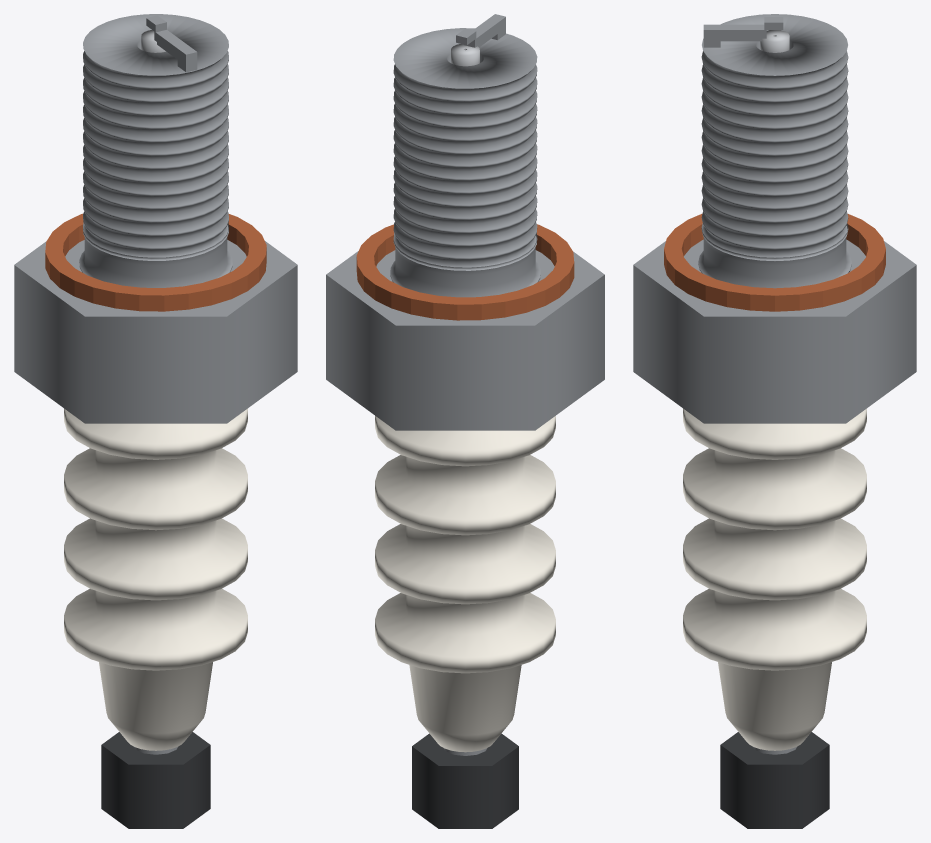
The model's file is spark-plug.glb.
3 renders of one model, left to right at view 1: azimuth 30°, elevation 25°; view 2: azimuth 150°, elevation 25°; view 3: azimuth 270°, elevation 25°, orthographic.
Parts seen in each view (by area): view 1: spark-plug:steel, spark-plug:ceramic, spark-plug:darkSteel, spark-plug:copper; view 2: spark-plug:steel, spark-plug:ceramic, spark-plug:darkSteel, spark-plug:copper, spark-plug:polishedSteel; view 3: spark-plug:steel, spark-plug:ceramic, spark-plug:darkSteel, spark-plug:copper, spark-plug:polishedSteel.
Part boxes in pixels (x1=…): spark-plug:steel: x1=14, y1=14, x2=297, y2=754; spark-plug:ceramic: x1=64, y1=408, x2=247, y2=750; spark-plug:darkSteel: x1=101, y1=732, x2=210, y2=828; spark-plug:copper: x1=45, y1=213, x2=266, y2=311; spark-plug:steel: x1=326, y1=14, x2=604, y2=755; spark-plug:ceramic: x1=375, y1=416, x2=555, y2=752; spark-plug:darkSteel: x1=412, y1=733, x2=518, y2=828; spark-plug:copper: x1=356, y1=224, x2=574, y2=320; spark-plug:polishedSteel: x1=451, y1=44, x2=479, y2=66; spark-plug:steel: x1=633, y1=14, x2=916, y2=754; spark-plug:ceramic: x1=683, y1=408, x2=866, y2=750; spark-plug:darkSteel: x1=720, y1=732, x2=829, y2=828; spark-plug:copper: x1=664, y1=214, x2=885, y2=311; spark-plug:polishedSteel: x1=760, y1=30, x2=789, y2=52.
Bounding box in the file's own units: 20.8 × 73.75 × 24.02.
